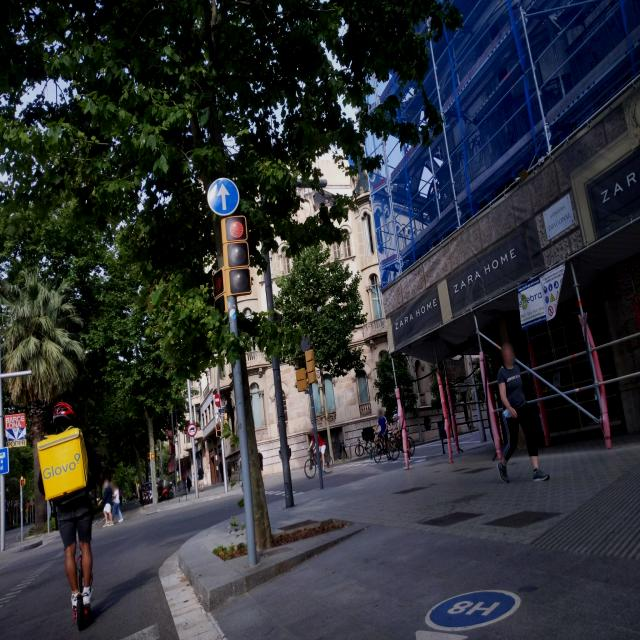bike: (388, 425, 416, 459)
